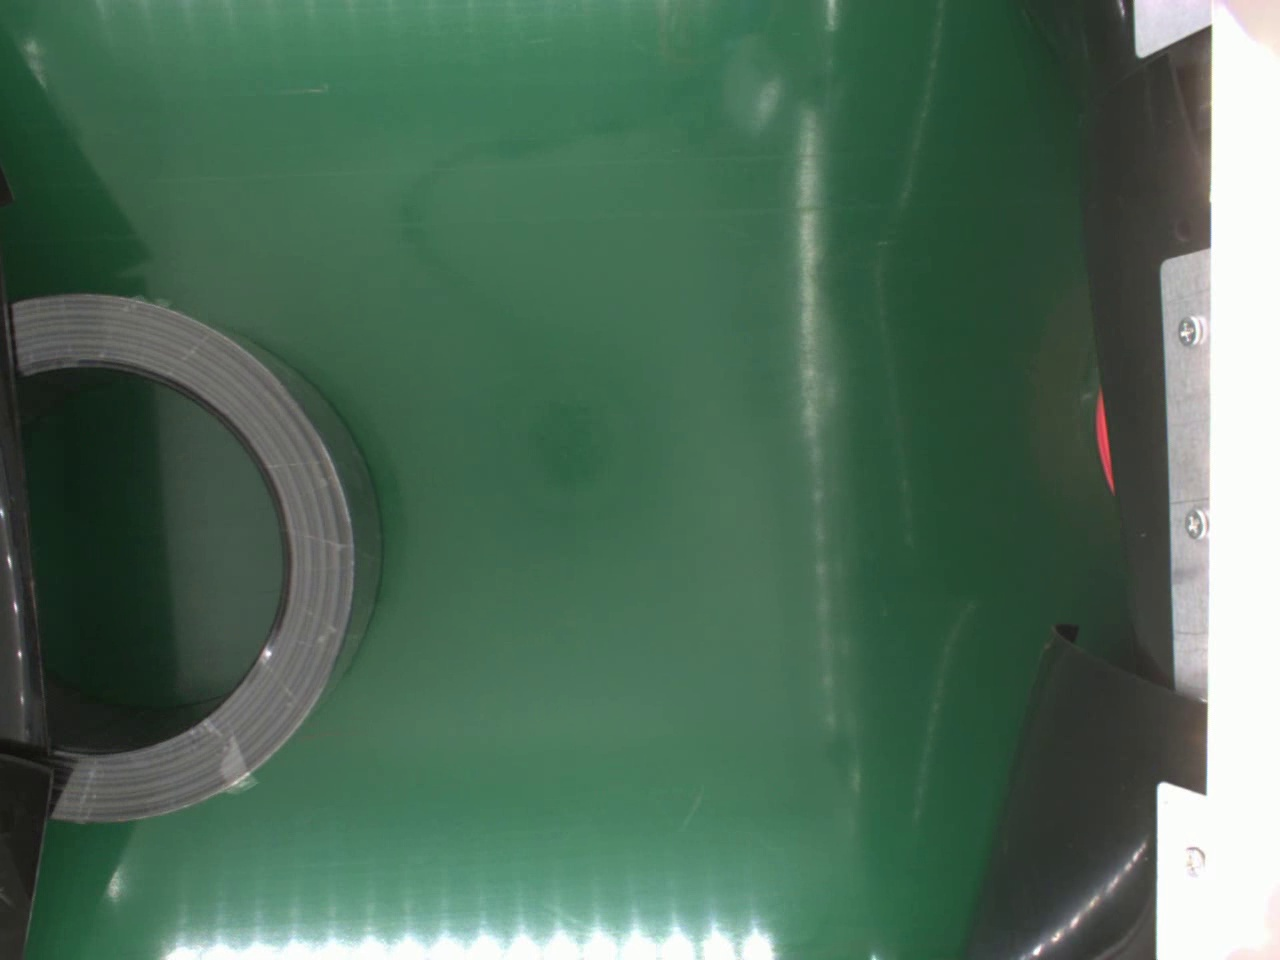black: (11, 287, 383, 829)
